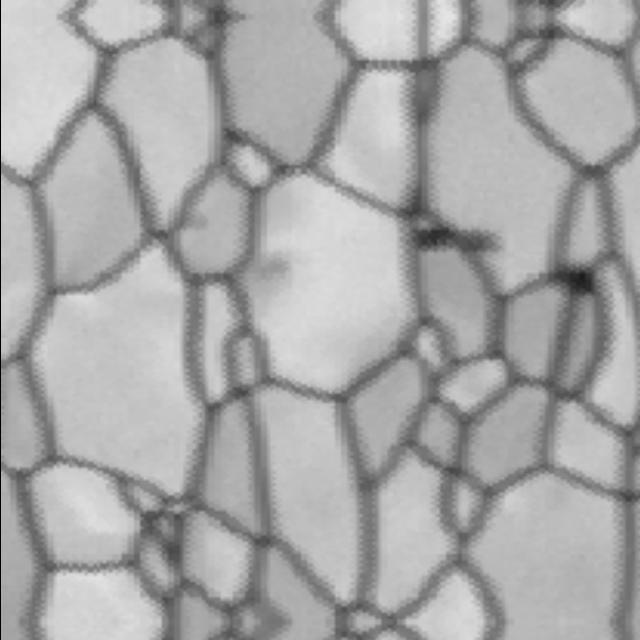good_void: (403, 222, 507, 262), (238, 245, 294, 295), (542, 257, 600, 300), (178, 208, 212, 236)
